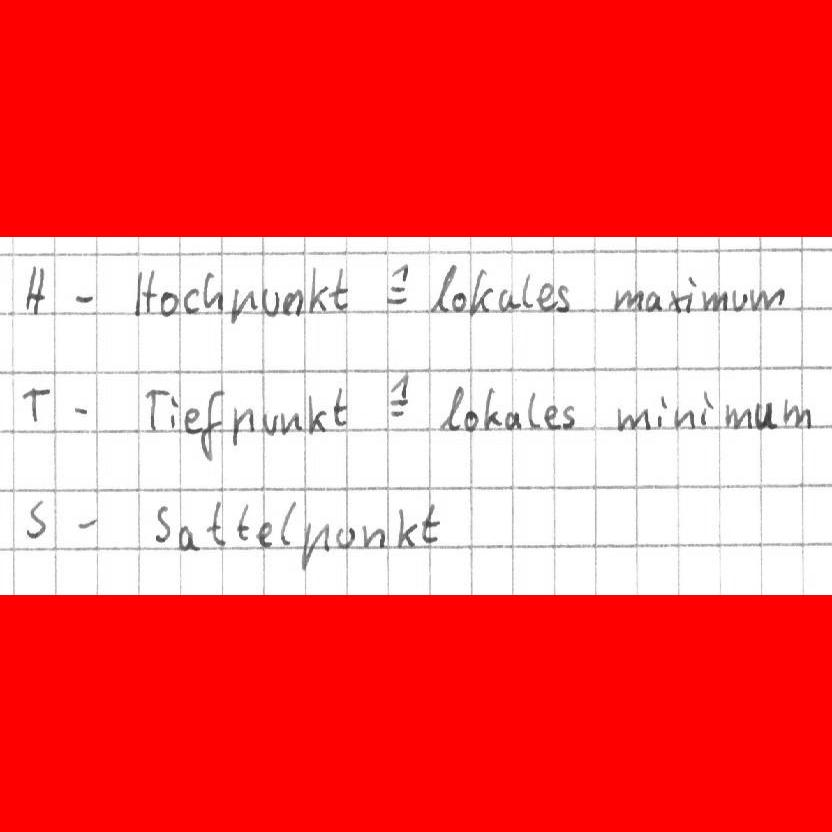Char: (200, 391, 223, 461), (21, 262, 49, 318), (301, 520, 329, 574), (428, 265, 457, 315), (21, 382, 51, 426), (23, 497, 49, 541), (385, 261, 410, 306), (438, 385, 462, 431), (143, 387, 167, 433), (277, 499, 300, 546), (134, 269, 156, 317), (395, 508, 420, 550), (262, 407, 298, 436), (308, 264, 328, 316), (471, 269, 494, 314), (229, 285, 254, 326), (386, 375, 409, 419), (618, 404, 652, 433), (207, 499, 227, 548), (752, 284, 785, 311), (202, 269, 222, 313), (330, 267, 349, 313), (231, 404, 253, 443), (482, 388, 502, 430), (421, 503, 442, 543), (782, 399, 810, 429), (611, 286, 642, 313), (153, 504, 173, 544), (308, 393, 326, 435), (725, 401, 751, 430), (702, 287, 730, 313), (332, 386, 348, 427), (281, 286, 302, 317), (178, 523, 200, 552), (754, 399, 775, 429), (236, 501, 252, 540), (361, 525, 387, 549), (700, 389, 716, 427), (334, 523, 357, 549), (535, 282, 554, 312), (159, 288, 178, 318), (182, 286, 201, 314), (521, 272, 535, 310), (498, 287, 519, 312), (256, 520, 274, 549), (262, 285, 278, 316), (525, 391, 538, 429), (74, 513, 100, 532), (554, 283, 571, 312), (673, 406, 694, 429), (686, 276, 699, 313), (732, 289, 752, 313), (656, 393, 669, 429), (666, 290, 686, 313), (72, 288, 95, 307), (543, 405, 561, 429), (182, 407, 200, 431), (644, 290, 663, 312), (462, 408, 479, 432), (451, 290, 467, 313), (562, 405, 577, 429), (169, 394, 179, 430), (504, 409, 521, 430), (70, 401, 91, 417)
